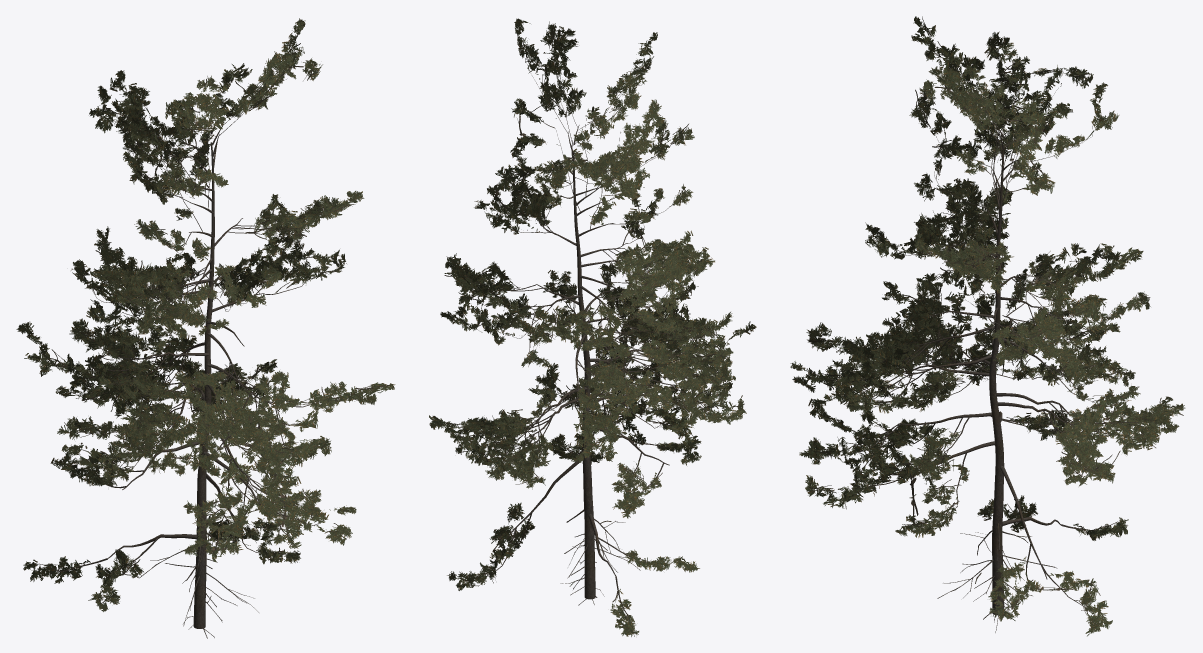
3 renders of one model, left to right at view 1: azimuth 30°, elevation 25°; view 2: azimuth 150°, elevation 25°; view 3: azimuth 270°, elevation 25°, orthographic. The views are drawn at different scales.
Parts seen in each view (by area): view 1: pine_sapling_medium__b_lod0; view 2: pine_sapling_medium__b_lod0; view 3: pine_sapling_medium__b_lod0.
Part boxes in pixels (<box>): pine_sapling_medium__b_lod0: <box>16,18,395,638</box>; pine_sapling_medium__b_lod0: <box>429,18,756,636</box>; pine_sapling_medium__b_lod0: <box>790,16,1185,636</box>.
Size of the model in its own units: 4.8 by 9.16 by 5.49.
Materials: 2 (2 with a texture image).
